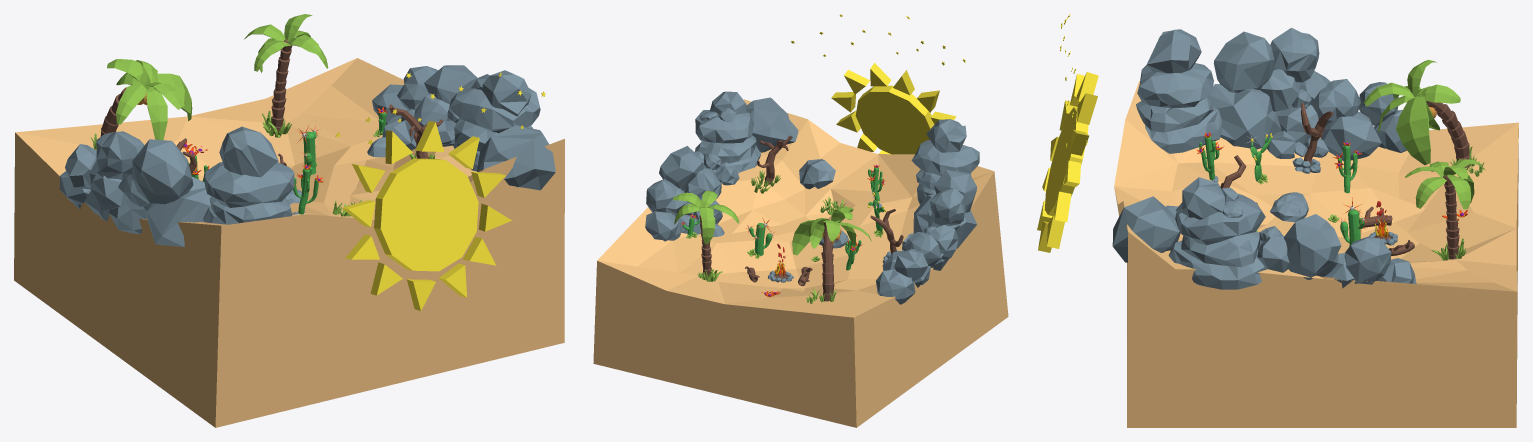
The model's file is Wild West Scene.glb.
3 renders of one model, left to right at view 1: azimuth 30°, elevation 25°; view 2: azimuth 150°, elevation 25°; view 3: azimuth 270°, elevation 25°, orthographic. The views are drawn at different scales.
Parts seen in each view (by area): view 1: group929416606, group242967673, group1617093177, group1158200431, group633535275, group1185546261, group789085278, group1780116240, group1560710981, group1605114541, group1233919075, group661573117 (+16 smaller); view 2: group929416606, group242967673, group1617093177, group633535275, group789085278, group661573117, group1560710981, group1780116240, group560383347, group909380306, group1050385950, group1158200431 (+14 smaller); view 3: group929416606, group242967673, group1185546261, group1158200431, group661573117, group1617093177, group633535275, group789085278, group1600033829, group1560710981, group362995327, group560383347 (+27 smaller).
Part boxes in pixels (x1,y1,x2,y2): group929416606: (14,58,564,427); group242967673: (342,121,511,310); group1617093177: (477,125,555,190); group1158200431: (132,139,193,204); group633535275: (204,162,294,207); group1185546261: (143,176,211,246); group789085278: (449,74,540,133); group1780116240: (219,126,278,177); group1560710981: (96,131,144,180); group1605114541: (481,70,531,116); group1233919075: (209,196,292,224); group661573117: (424,65,477,104); group929416606: (593,99,1008,427); group242967673: (831,63,956,154); group1617093177: (746,97,798,152); group633535275: (911,140,979,176); group789085278: (695,110,754,143); group661573117: (659,146,703,191); group1560710981: (930,187,965,225); group1780116240: (926,119,966,152); group560383347: (695,136,756,163); group909380306: (646,179,684,214); group1050385950: (876,269,915,304); group1158200431: (934,170,976,212); group929416606: (1114,81,1518,427); group242967673: (1037,72,1098,252); group1185546261: (1208,84,1281,149); group1158200431: (1213,31,1274,92); group661573117: (1284,214,1341,279); group1617093177: (1112,196,1180,262); group633535275: (1137,63,1213,108); group789085278: (1175,194,1265,244); group1600033829: (1168,240,1267,289); group1560710981: (1270,27,1319,82); group362995327: (1320,111,1381,161); group560383347: (1181,231,1259,267).
Size of the model in its own units: 3.77 by 3.08 by 4.13.
